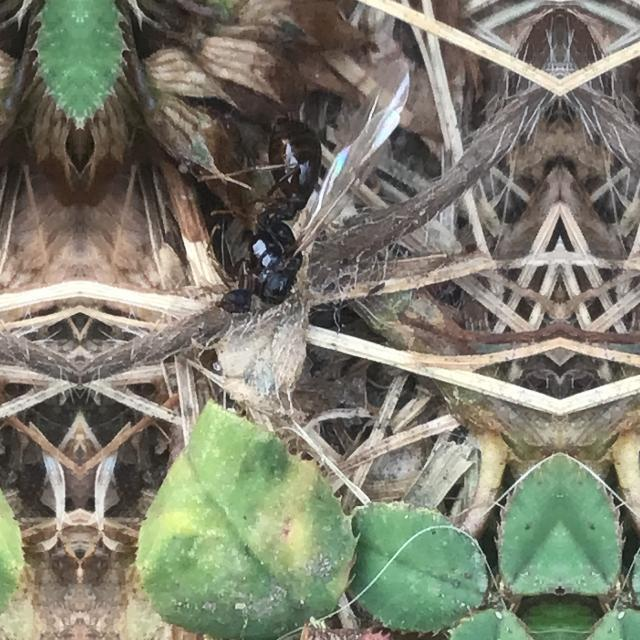Tetramorium: (202, 84, 374, 330)
